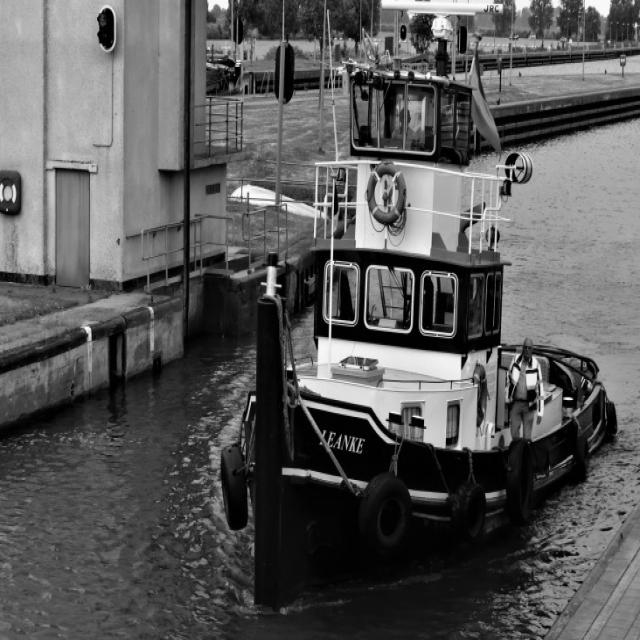tugboat: (218, 1, 622, 631)
